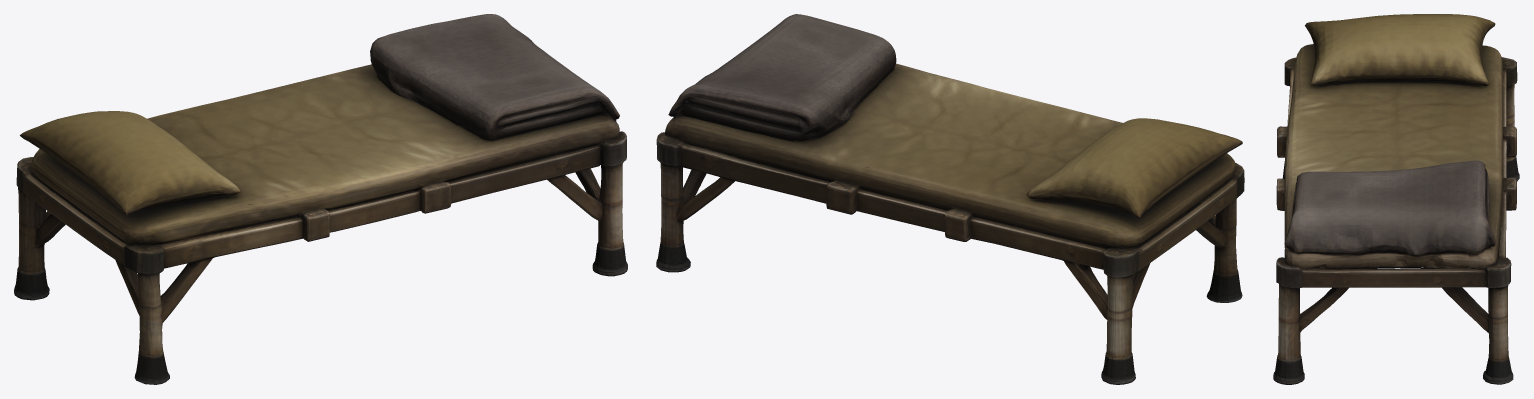
3 views of the same model, side by side, from view 1: azimuth 30°, elevation 25°; view 2: azimuth 150°, elevation 25°; view 3: azimuth 270°, elevation 25° (orthographic). The views are drawn at different scales.
Visible parts, largest first — view 1: geometry_0; view 2: geometry_0; view 3: geometry_0.
Part boxes in pixels (x1,y1,x2,y2): geometry_0: (14,14,627,384); geometry_0: (656,14,1244,384); geometry_0: (1273,14,1519,384).
Bounding box in the file's own units: 0.9967 × 0.3774 × 0.4838.
Materials: 1 (1 with a texture image).
